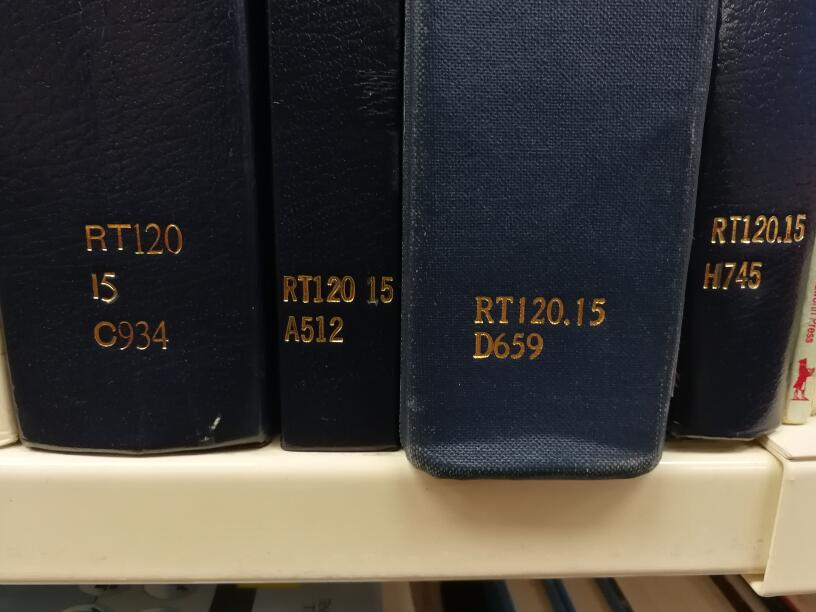booklabel: (78, 217, 190, 360), (469, 290, 612, 369), (276, 269, 400, 353), (700, 208, 812, 297)
